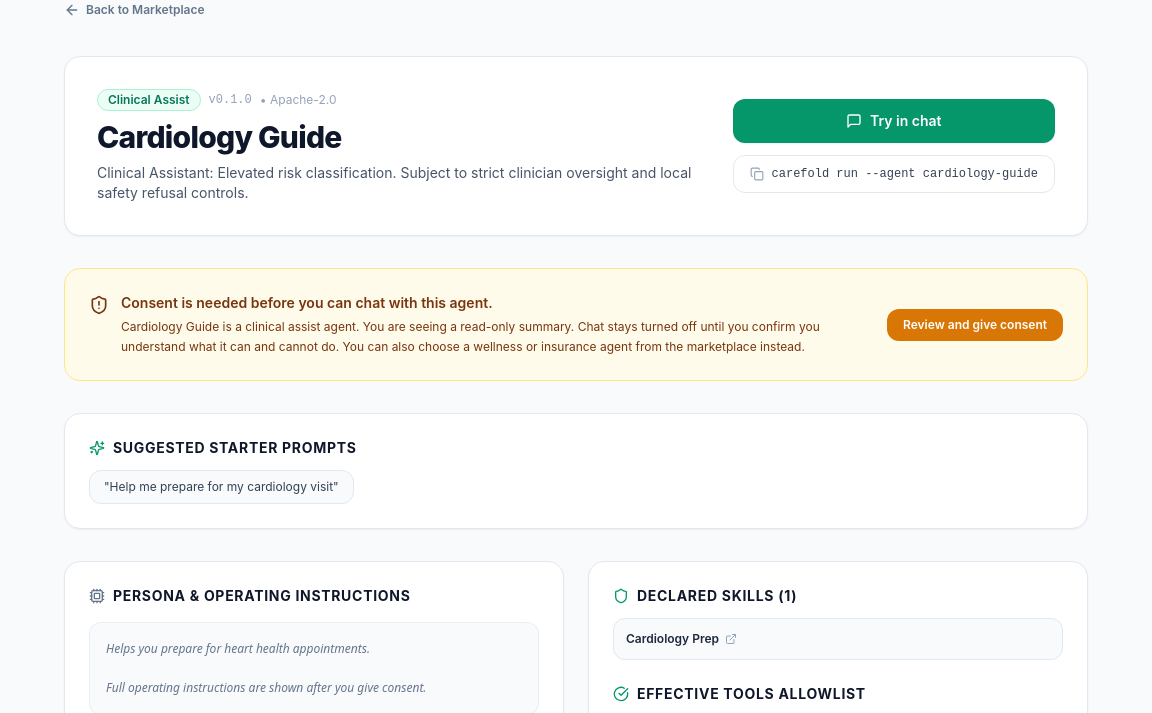
Test: AgentDetailClient clinical consent (#87) › decline keeps the user on the page with an explanation
The width and height of the screenshot is (1152, 713).
Click the button with test id "agent-try-chat-gated". click: click(894, 121)
box: [732,99,1055,143]
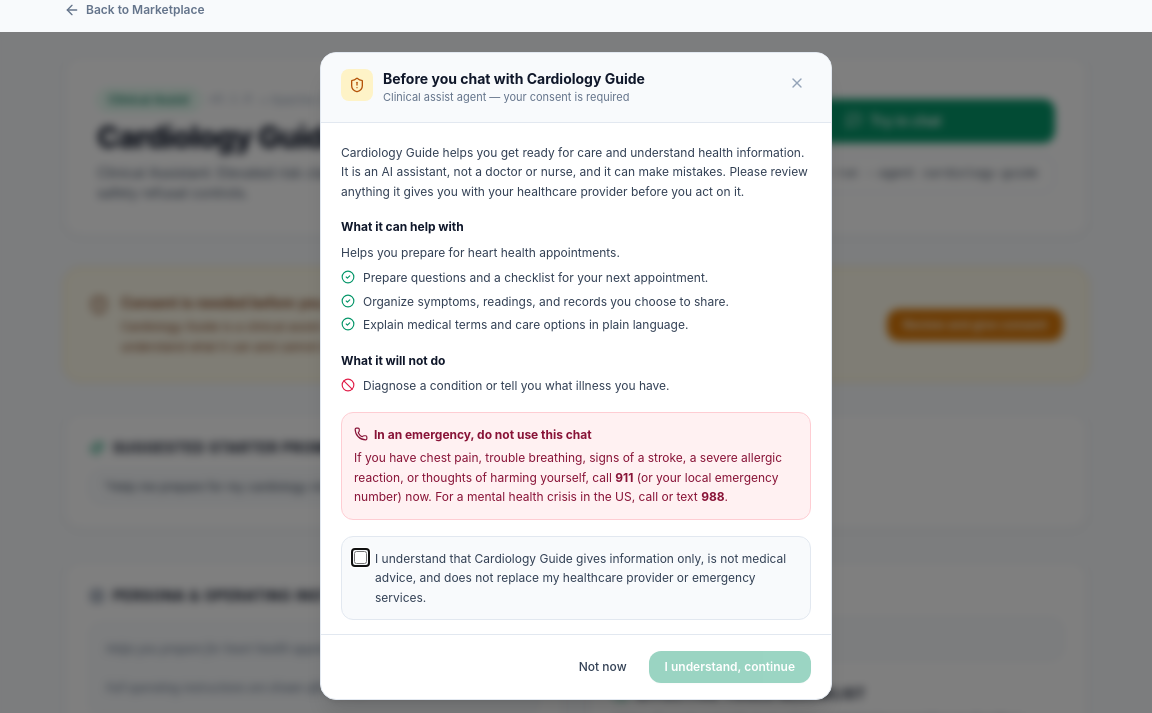
Click the button with test id "clinical-consent-decline". click: click(603, 667)
box: [565,651,641,683]
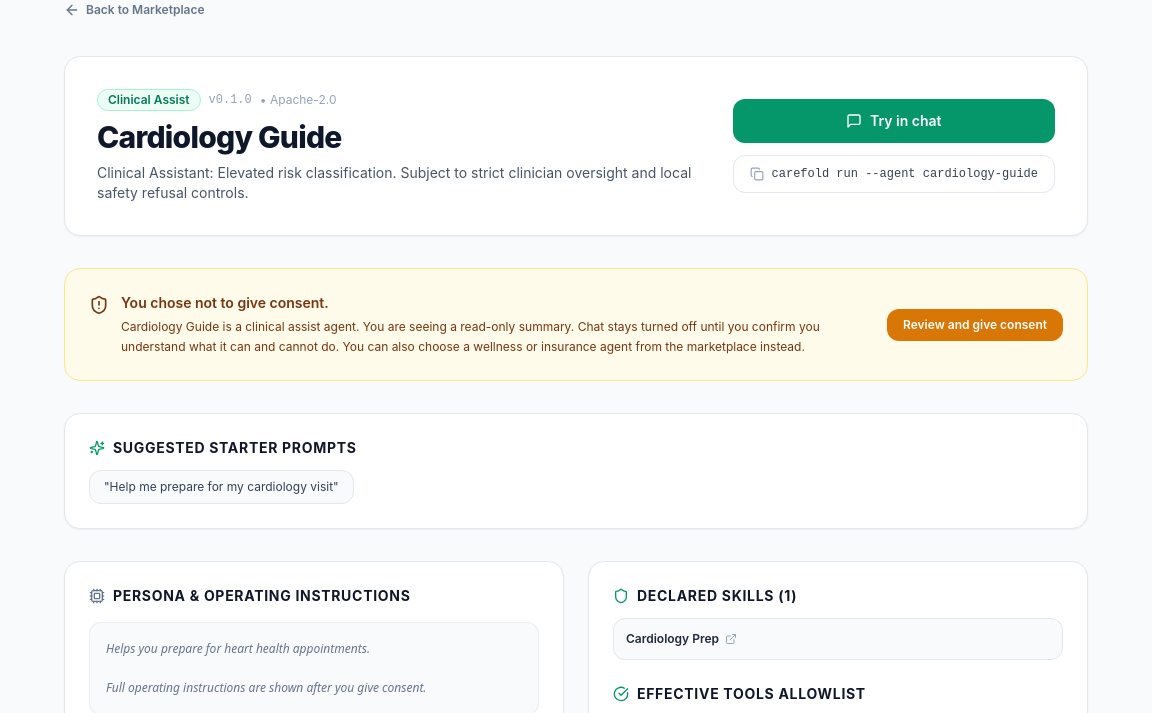
Now the message with test id "agent-consent-required" shows "You chose not to give consent.", box [121,294,329,311]
